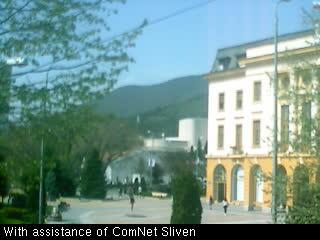person: (222, 198, 230, 216), (206, 195, 215, 211), (129, 195, 136, 212), (138, 185, 145, 200), (277, 200, 284, 215), (123, 183, 129, 199), (118, 185, 123, 198), (51, 190, 55, 201)
